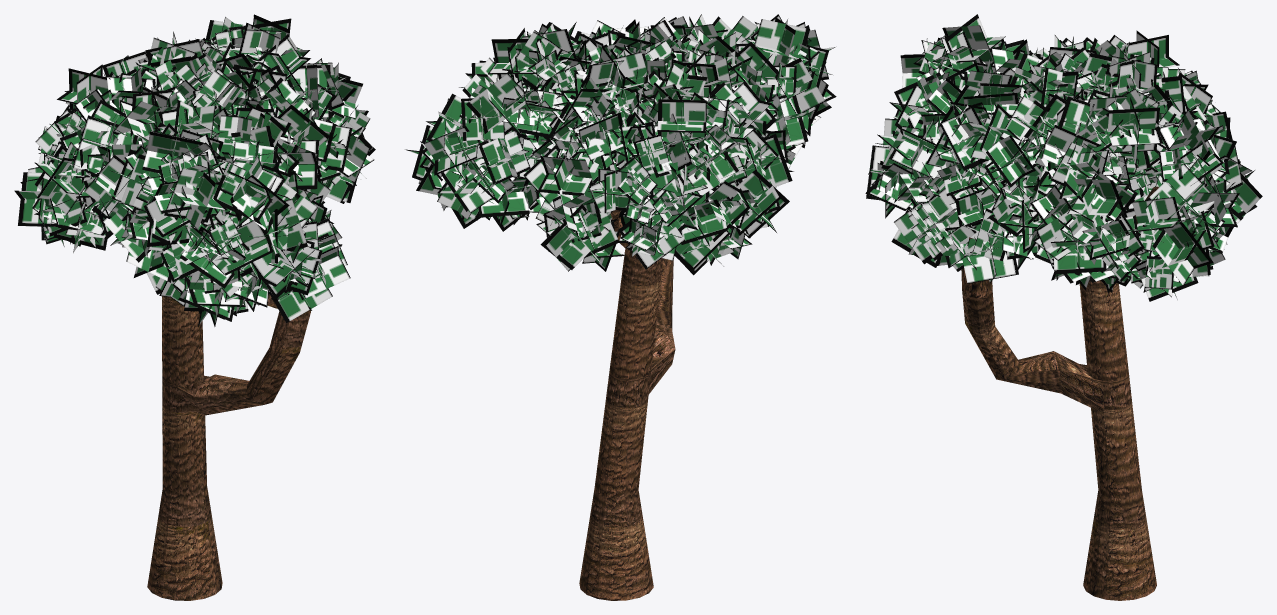
File: arvore final.fbx
The picture shows the model from 3 angles, left to right: view 1: azimuth 30°, elevation 25°; view 2: azimuth 150°, elevation 25°; view 3: azimuth 270°, elevation 25°; orthographic projection. The views are drawn at different scales.
Visible parts, largest first — view 1: LEAVES.001, TREE; view 2: LEAVES.001, TREE; view 3: LEAVES.001, TREE.
Boxes of the visible parts, x1,y1,x2,y2 form: LEAVES.001: (14, 14, 375, 326); TREE: (147, 294, 310, 600); LEAVES.001: (405, 14, 836, 275); TREE: (506, 134, 675, 600); LEAVES.001: (865, 14, 1262, 301); TREE: (961, 186, 1158, 600).
Bounding box in the file's own units: 572 × 858 × 580.
2 materials, 2 textured.
